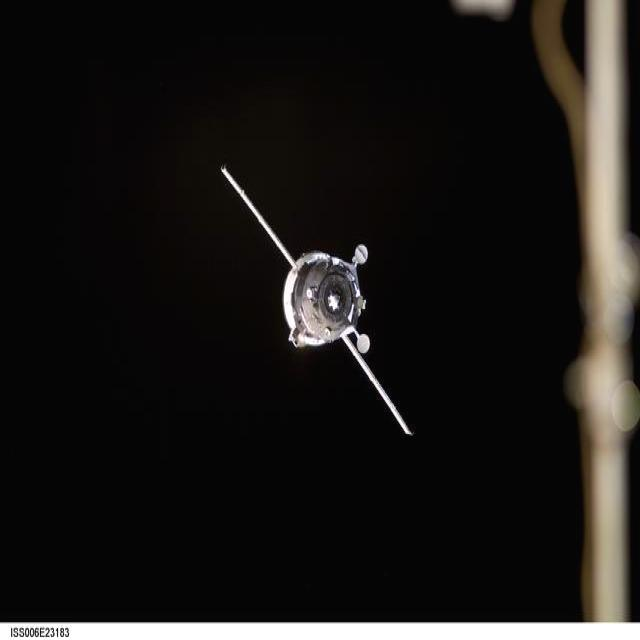satellite: (221, 166, 411, 434)
